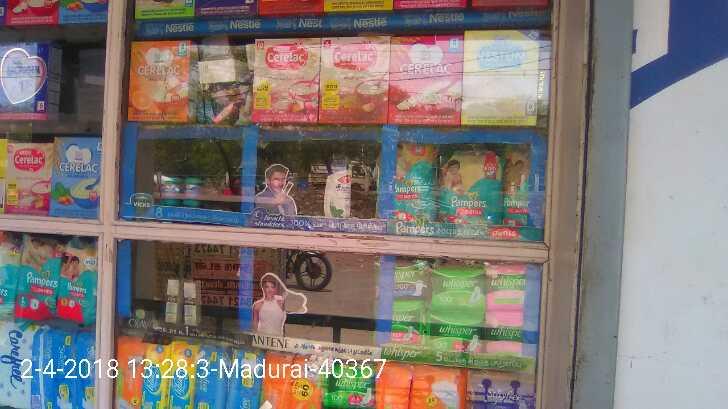vicks: (157, 174, 203, 209)
